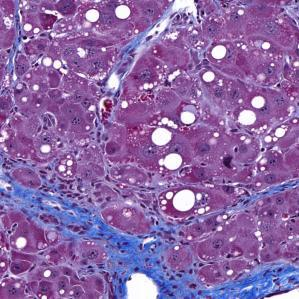fibrosis: (97, 220, 195, 287), (22, 182, 118, 242)
